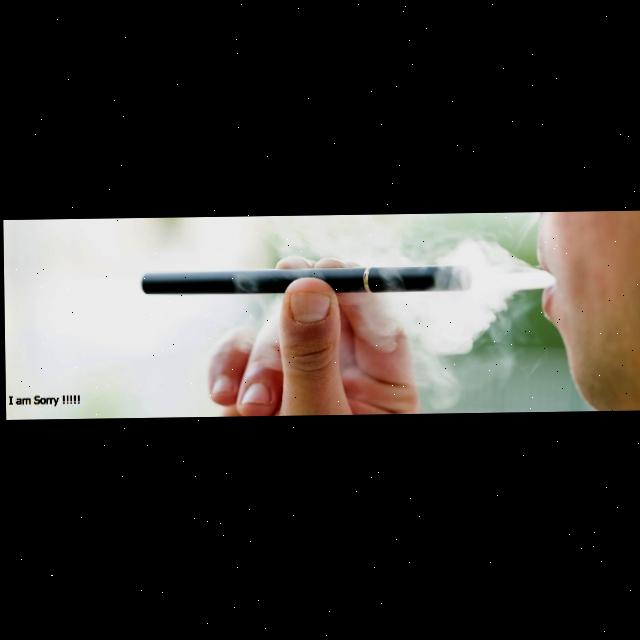vape: (141, 267, 470, 296)
